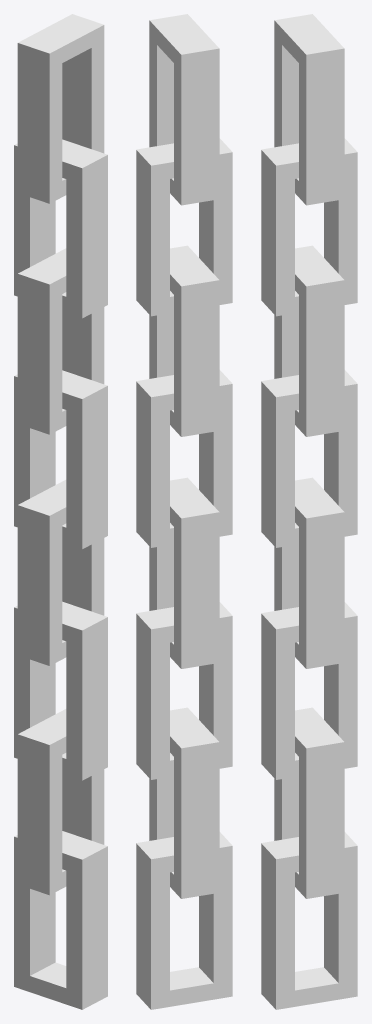
File: Chain 2.fbx
3 renders of one model, left to right at view 1: azimuth 90°, elevation 25°; view 2: azimuth 150°, elevation 25°; view 3: azimuth 330°, elevation 25°, orthographic.
Visible parts, largest first — view 1: Chandelier_Big.001; view 2: Chandelier_Big.001; view 3: Chandelier_Big.001.
Boxes of the visible parts, x1,y1,x2,y2 form: Chandelier_Big.001: [14, 14, 107, 1009]; Chandelier_Big.001: [136, 14, 232, 1009]; Chandelier_Big.001: [261, 14, 357, 1009].
Bounding box in the file's own units: 29.57 × 333 × 29.57.
Materials: 1 (1 with a texture image).
